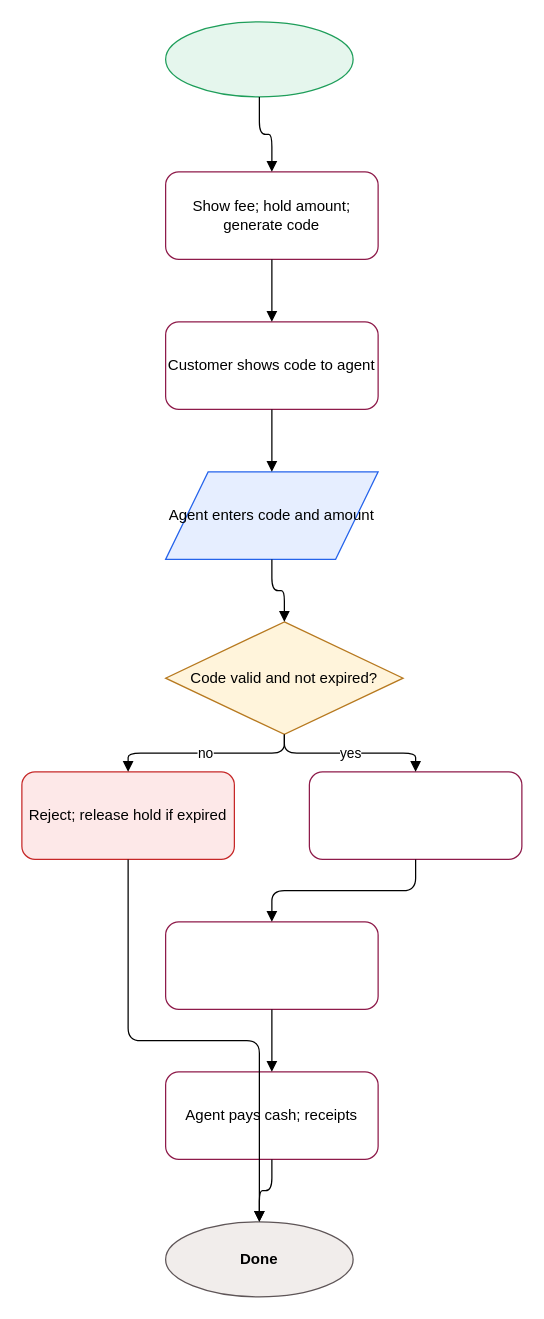
This 544x1319 diagram has some shape labels left out. Each missing label, with the centre of its shape:
Customer confirms with PIN/biometric: the point at 415,815
Customer requests withdrawal (amount, agent): the point at 258,59
Debit customer; credit agent float and commission: the point at 271,965
